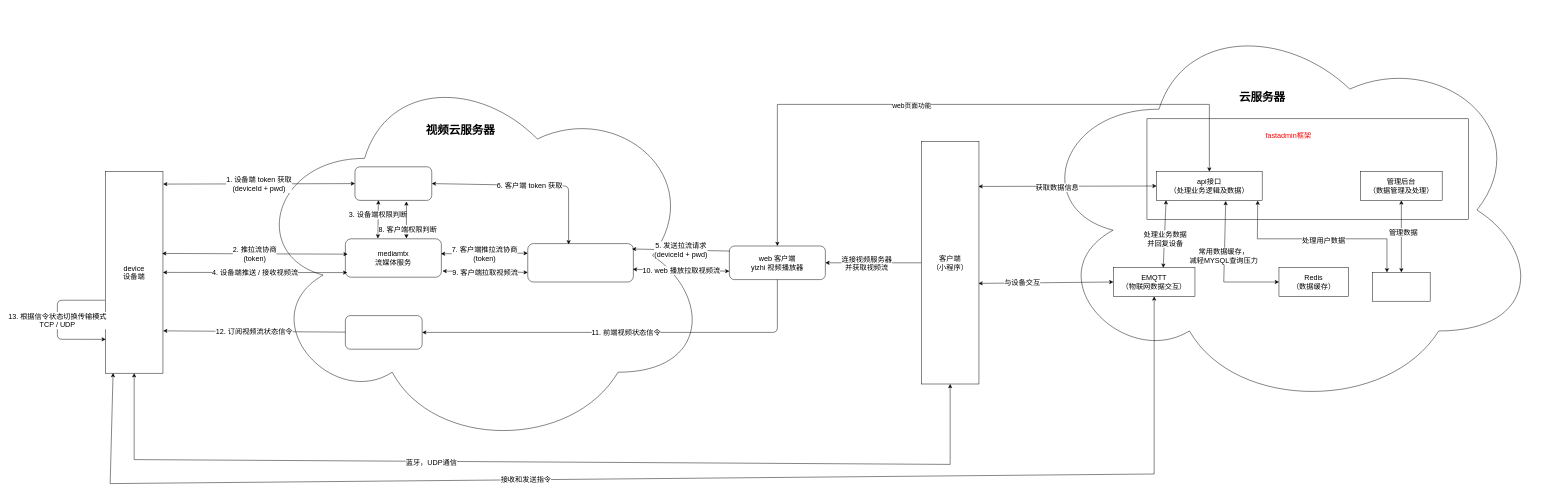
Some shapes in this 1549 by 496 pixel diagram are drawn without their labels. Each missing label, with the box of its shape:
EMQTT 信令服务: (345, 315, 422, 349)
keycloak 鉴权服务: (354, 166, 432, 200)
MYSQL （数据存储）: (1372, 272, 1430, 301)
yizhiMediaServer 自研流媒体服务: (527, 243, 633, 282)
